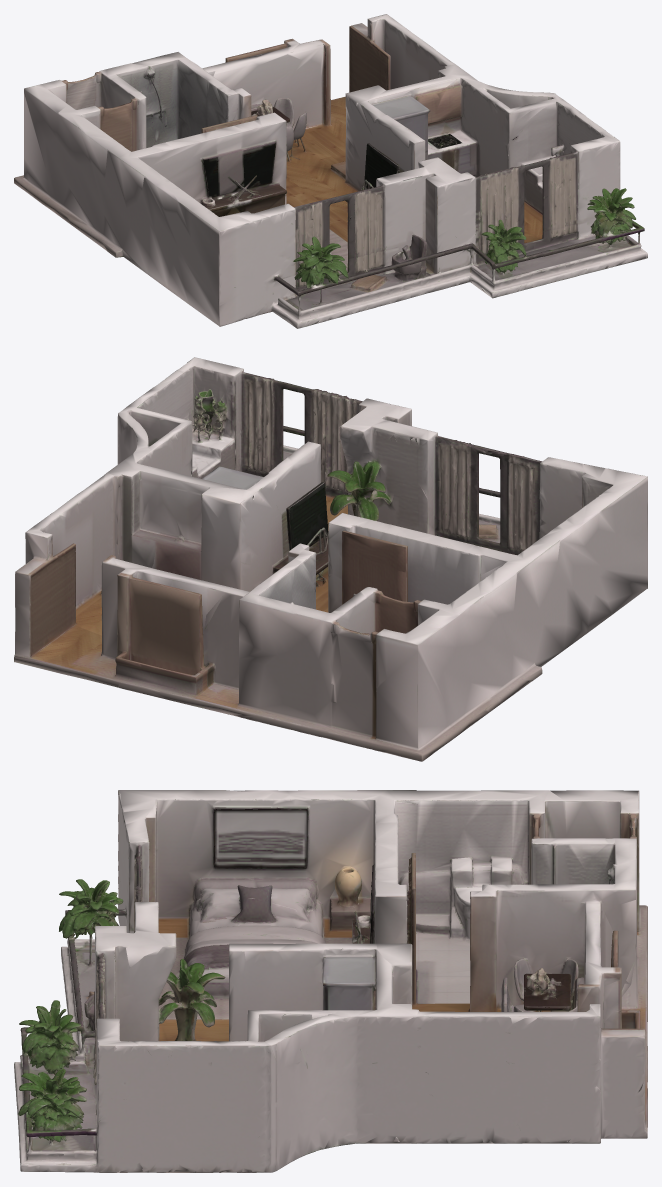
3 renders of one model, top to bottom at view 1: azimuth 30°, elevation 25°; view 2: azimuth 150°, elevation 25°; view 3: azimuth 270°, elevation 25°, orthographic. The views are drawn at different scales.
Visible parts, largest first — view 1: Mesh_0; view 2: Mesh_0; view 3: Mesh_0.
Boxes of the visible parts, x1,y1,x2,y2 form: Mesh_0: (14,14,647,328); Mesh_0: (14,357,647,761); Mesh_0: (14,790,647,1172).
Size of the model in its own units: 1.86 by 0.4287 by 1.91.
Materials: 1 (1 with a texture image).
